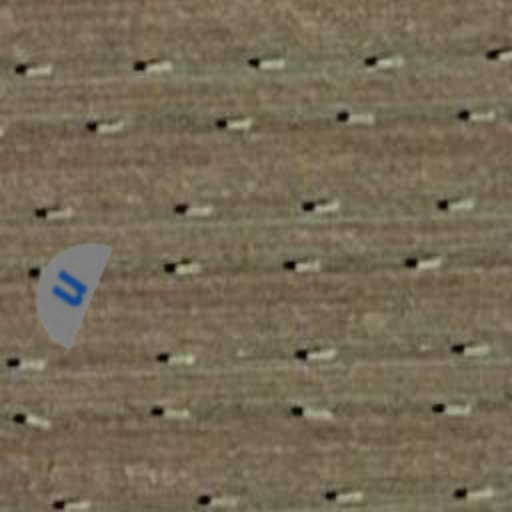semicircle: (0, 214, 144, 362)
